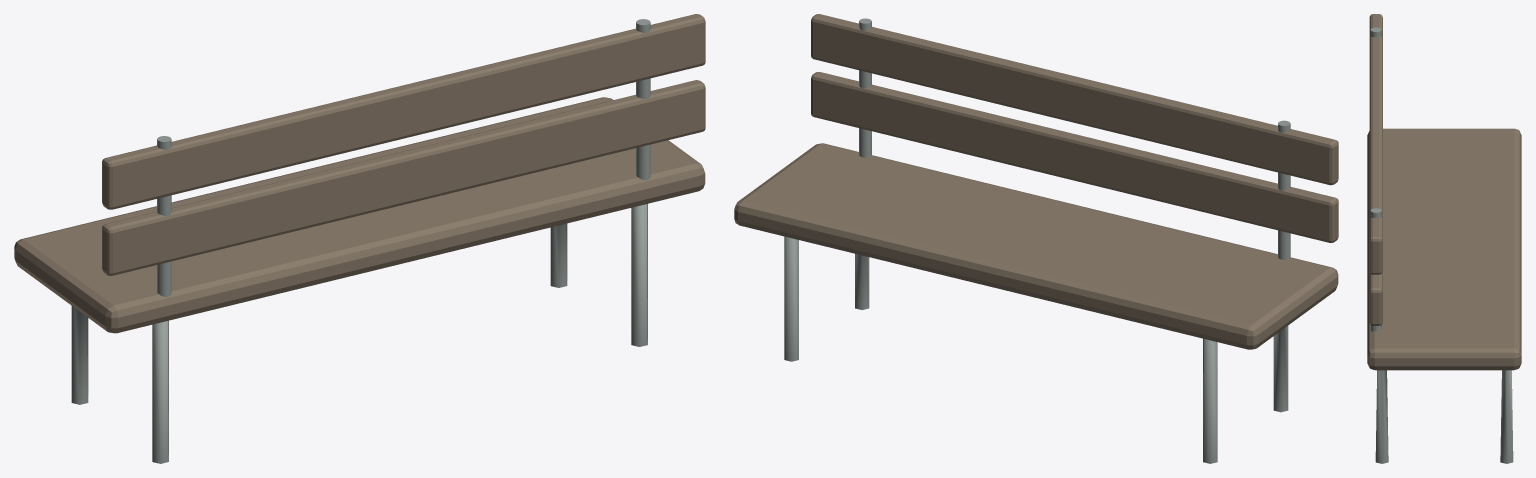
File: common_bench.glb
The picture shows the model from 3 angles, left to right: view 1: azimuth 30°, elevation 25°; view 2: azimuth 150°, elevation 25°; view 3: azimuth 270°, elevation 25°; orthographic projection. The views are drawn at different scales.
Visible parts, largest first — view 1: KitWood, KitSteel; view 2: KitWood, KitSteel; view 3: KitWood, KitSteel.
Part boxes in pixels (left/top/right/bottom): KitWood: left=14, top=14, right=705, bottom=333; KitSteel: left=71, top=19, right=650, bottom=463; KitWood: left=734, top=14, right=1338, bottom=349; KitSteel: left=784, top=18, right=1290, bottom=463; KitWood: left=1367, top=14, right=1521, bottom=370; KitSteel: left=1370, top=27, right=1513, bottom=463.
Size of the model in its own units: 1.8 by 0.93 by 0.52.
